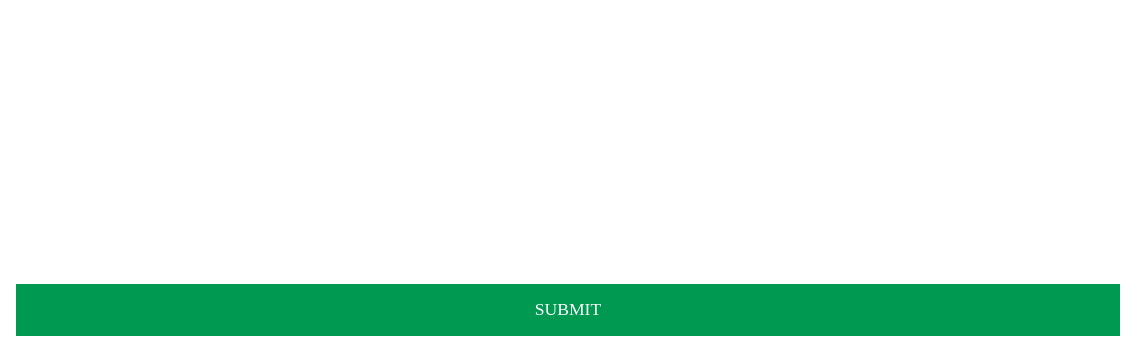
Test: Form Register › should show validation warning when form input value is empty
Expected: the text "email tidak boleh kosong" is not shown
Expected: the text "password tidak boleh kosong" is not shown
# Event click
What coordinates should you click on to do the following:
click the button "submit"
I would click on:
 (568, 310)
Its box is [16, 284, 1120, 336].
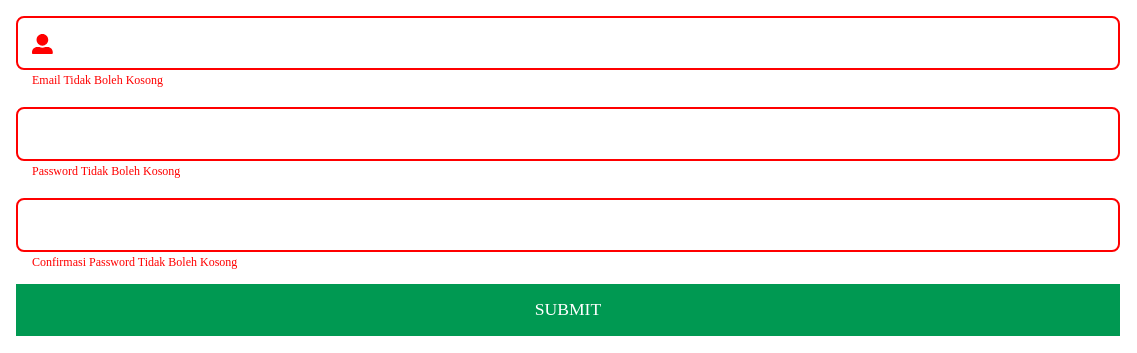
Now the text "email tidak boleh kosong" is shown, box [16, 74, 163, 86]
Now the text "password tidak boleh kosong" is shown, box [16, 165, 180, 177]
Now the text "confirmasi password tidak boleh kosong" is shown, box [16, 256, 237, 268]
